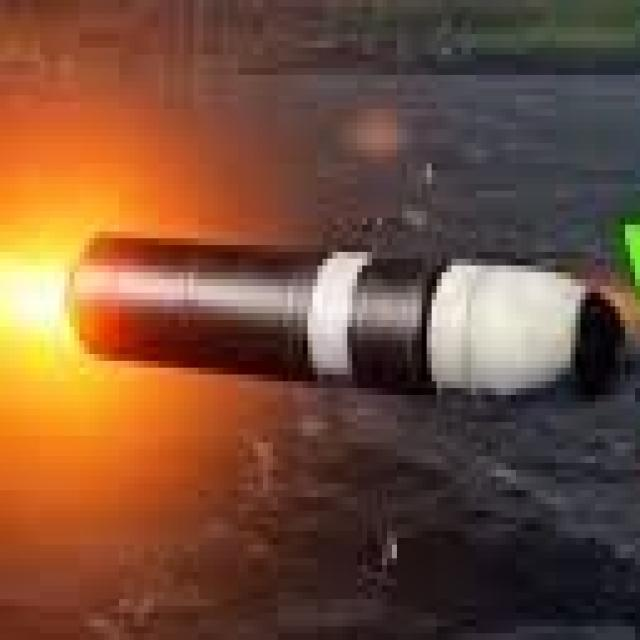missile: (67, 228, 638, 415)
